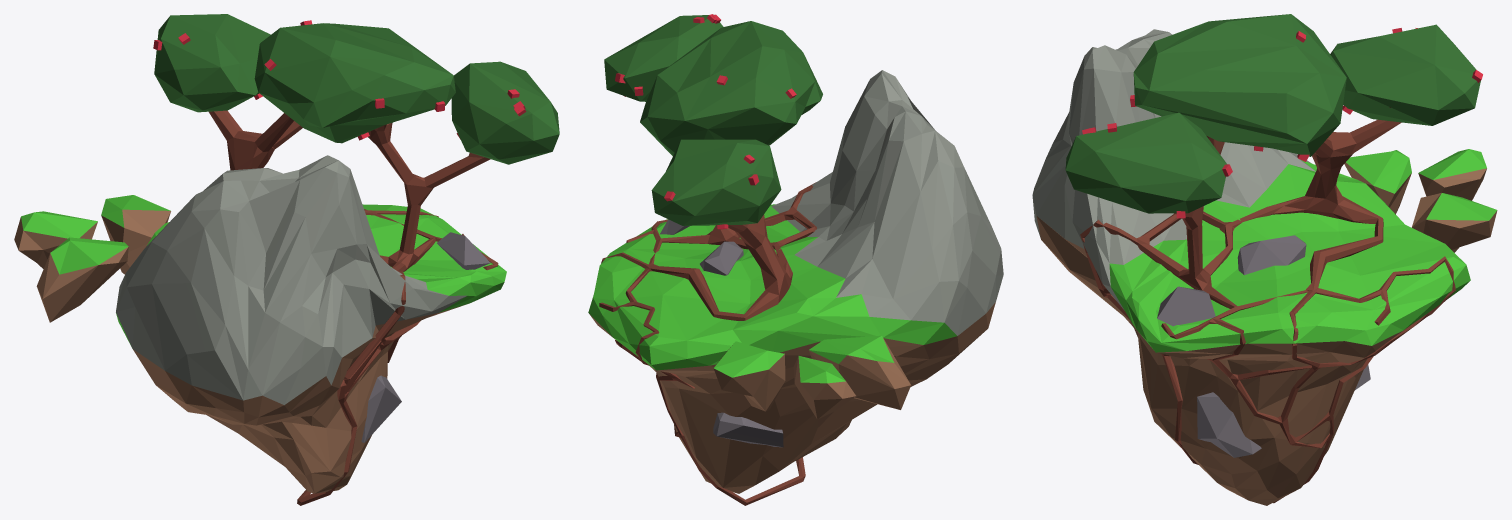
The model's file is flying_island_2.fbx.
The picture shows the model from 3 angles, left to right: view 1: azimuth 30°, elevation 25°; view 2: azimuth 150°, elevation 25°; view 3: azimuth 270°, elevation 25°; orthographic projection. The views are drawn at different scales.
Parts seen in each view (by area): view 1: Icosphere.003; view 2: Icosphere.003; view 3: Icosphere.003.
Boxes of the visible parts, x1,y1,x2,y2 form: Icosphere.003: [14, 14, 559, 505]; Icosphere.003: [588, 14, 1003, 505]; Icosphere.003: [1032, 14, 1497, 505].
Bounding box in the file's own units: 508 × 557 × 485.
